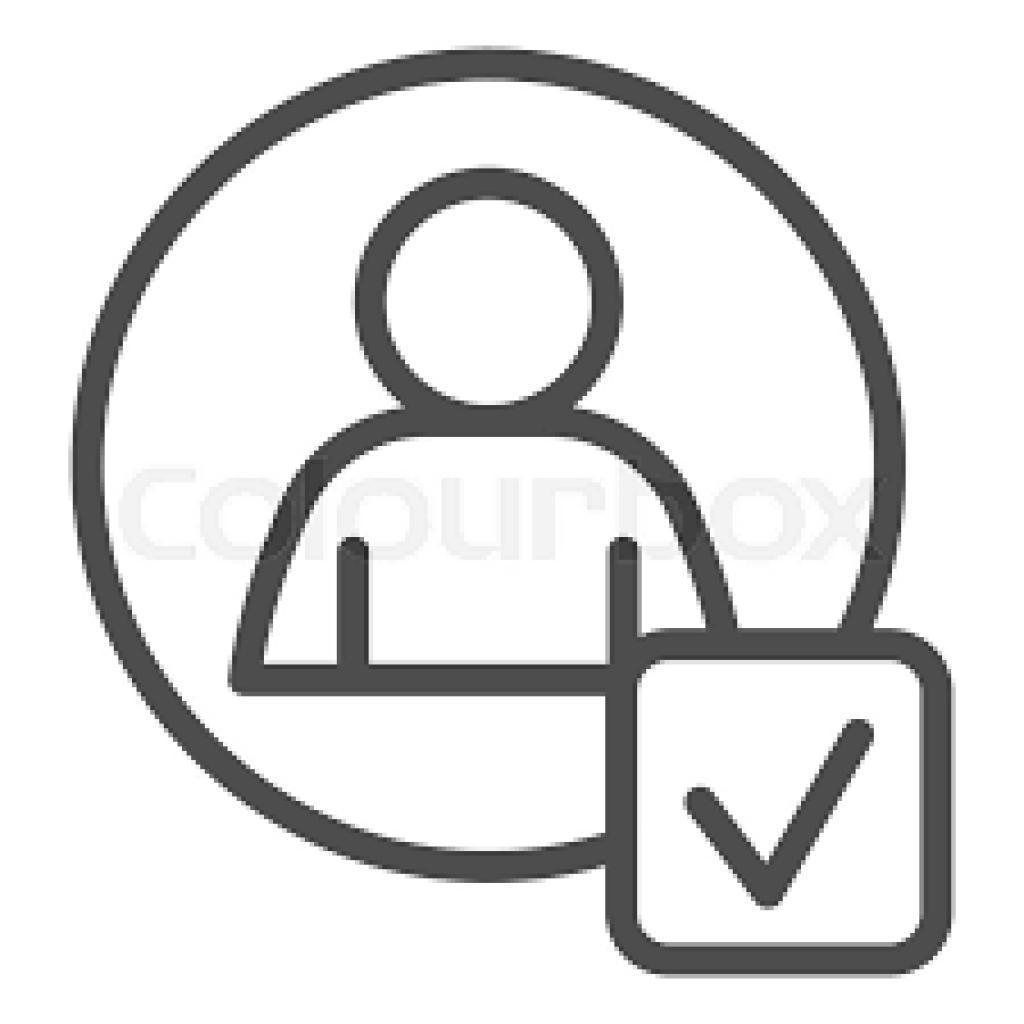checkbox: (607, 628, 957, 982)
